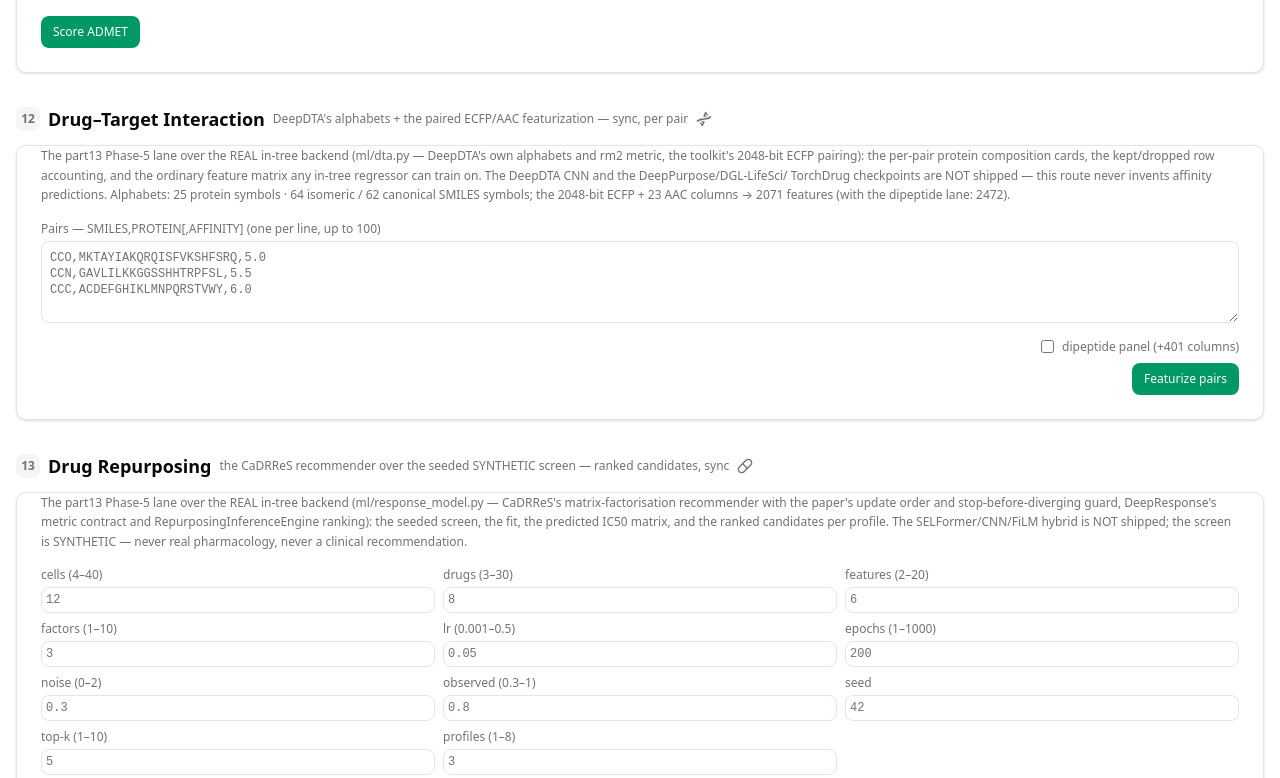
Test: the drug–target interaction lane of the Machine Learning workspace › reports an invalid SMILES row per-row, never silently
(page scrolled)
Click the button "Featurize pairs" at (1186, 379), box [1132,363,1239,395]
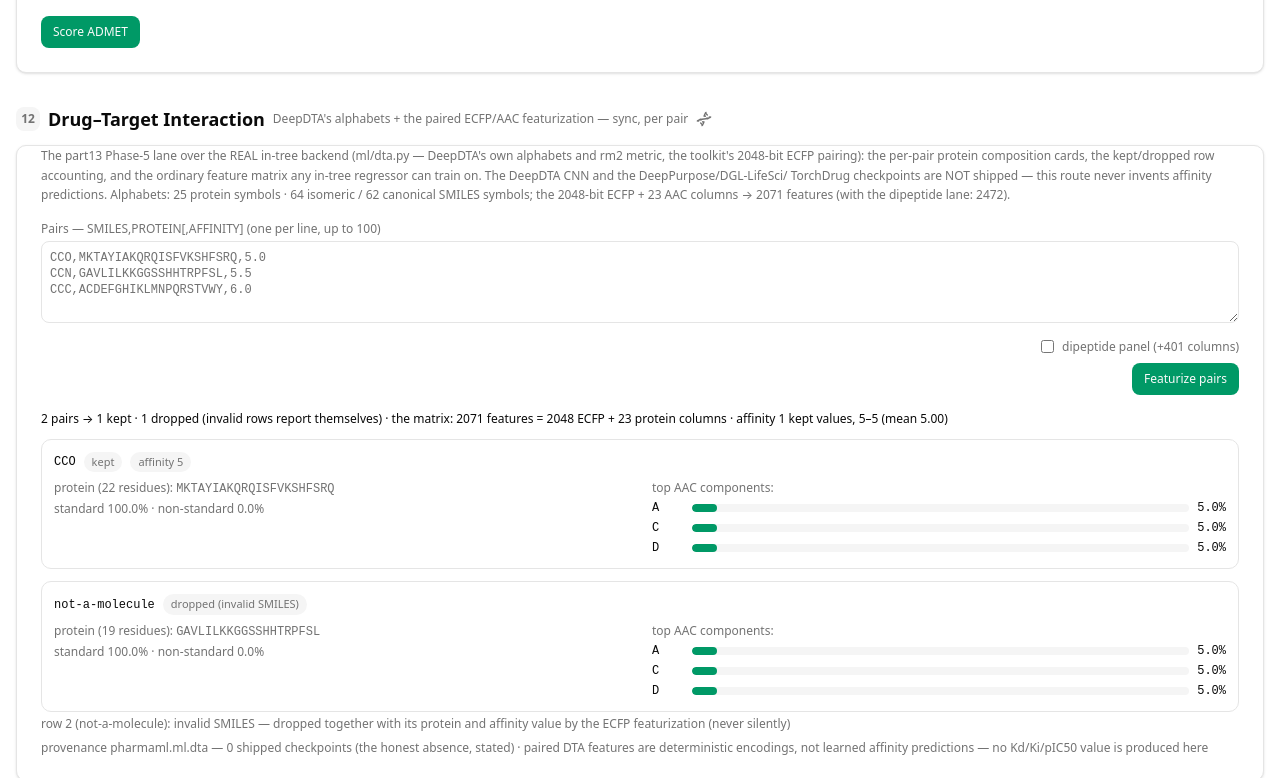
Expected: the text "2 pairs → 1 kept · 1 dropped" is shown, [41,410,948,427]
Expected: the text "dropped (invalid SMILES)" is shown, [163,594,307,615]
Expected: the text "invalid SMILES — dropped together with its protein" is shown, [174,715,790,732]
